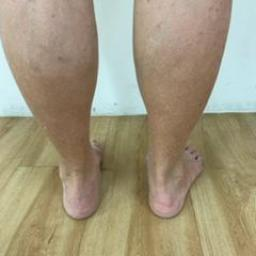Back View -Both Feet-: (34, 118, 228, 232)
